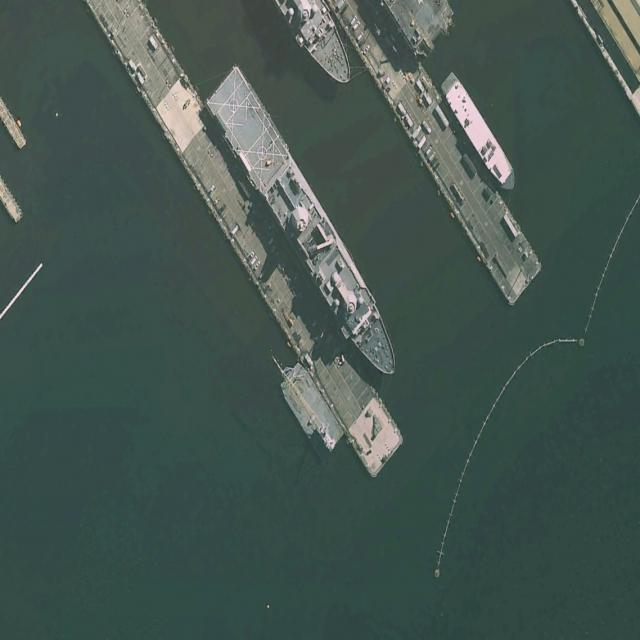Auxiliary Ships: (203, 60, 410, 393)
Other Ship: (437, 69, 521, 198)
